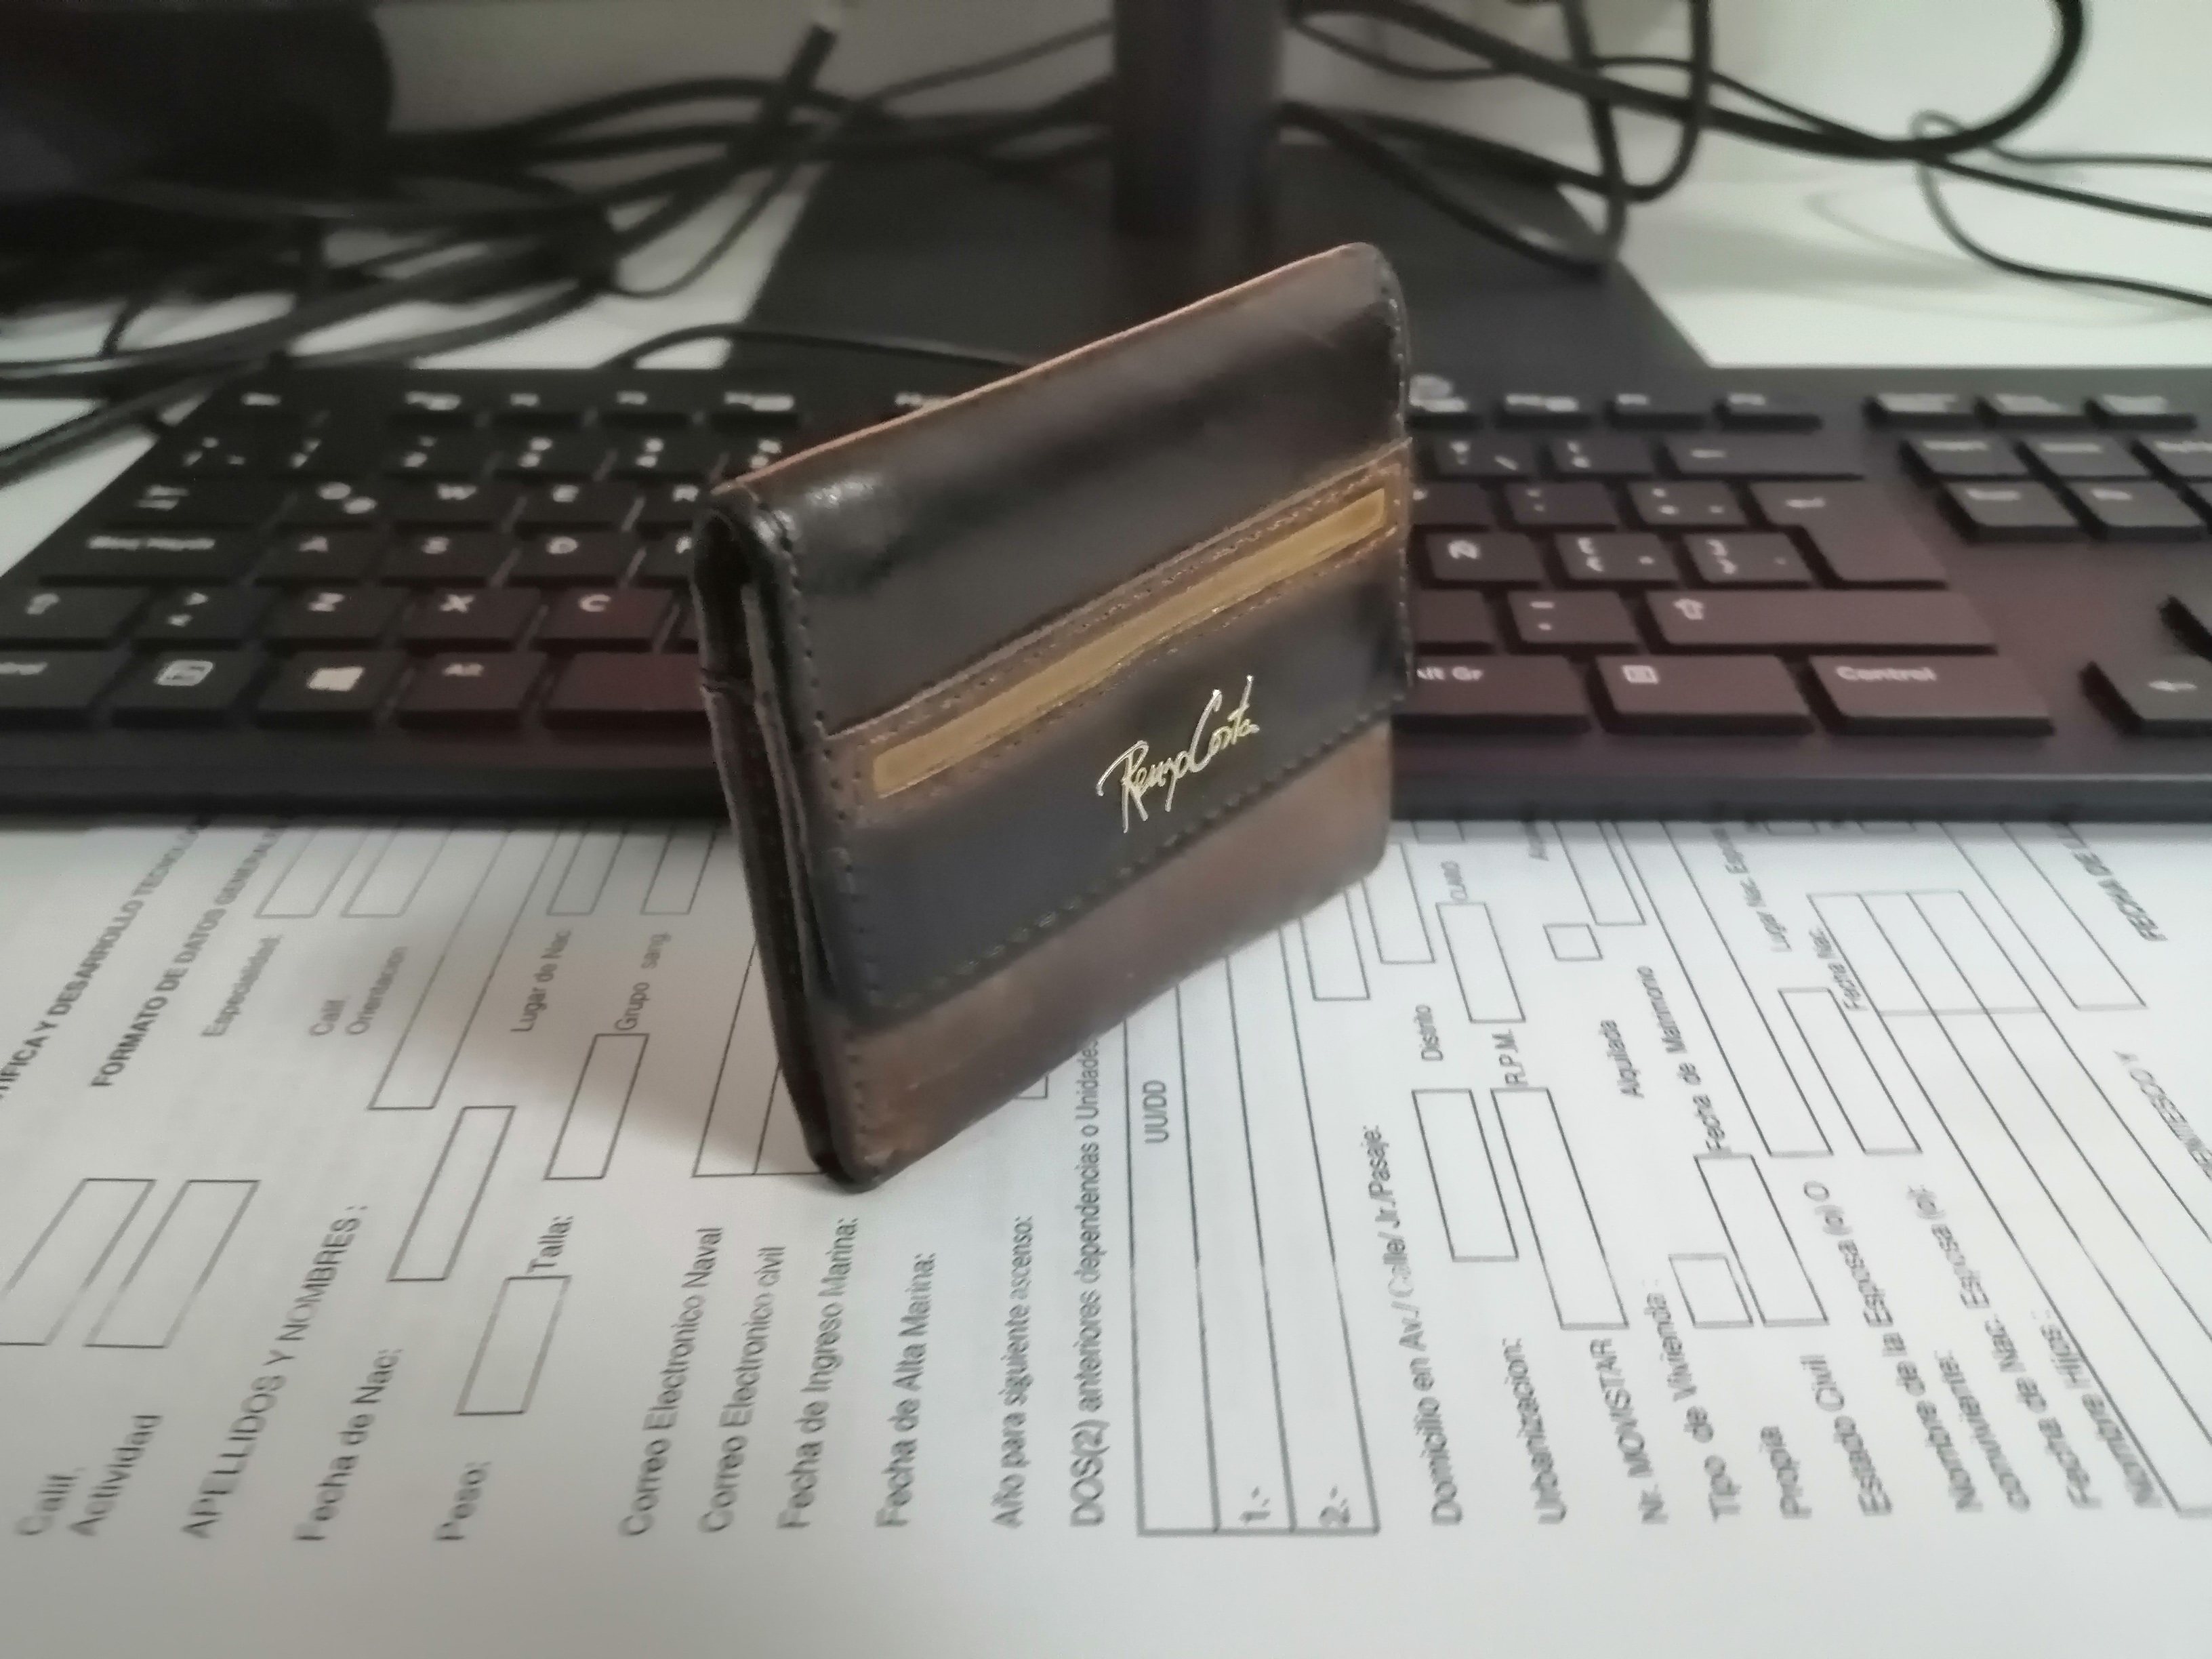monedero: (646, 228, 1444, 1213)
